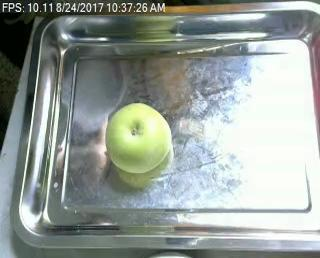fruit: (98, 102, 183, 179)
